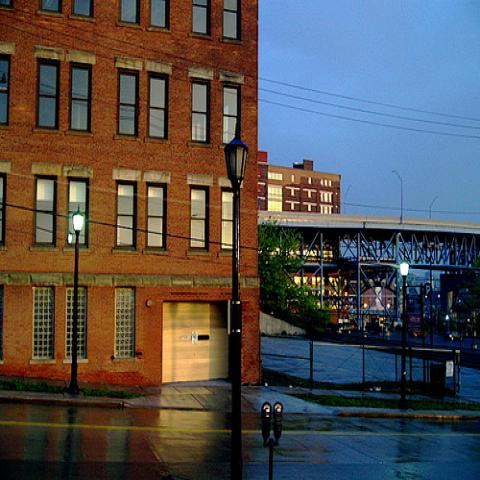car: (445, 330, 463, 341), (408, 328, 426, 339)
